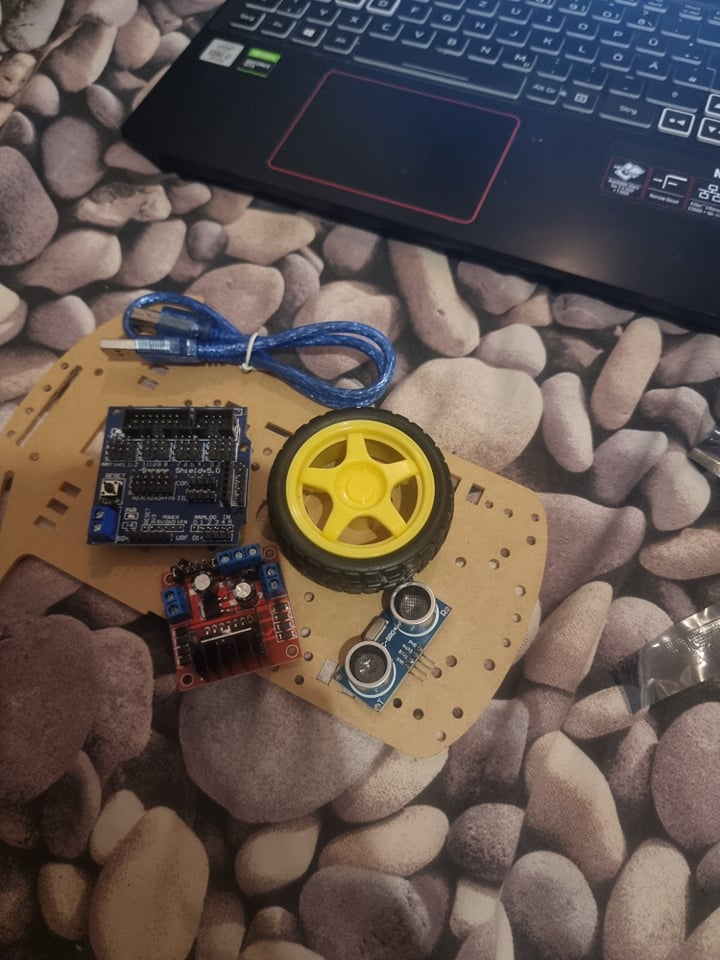5V EXPANSION: (87, 405, 250, 549)
MOTOR: (163, 546, 302, 693)
SENSOR: (335, 583, 446, 701)
